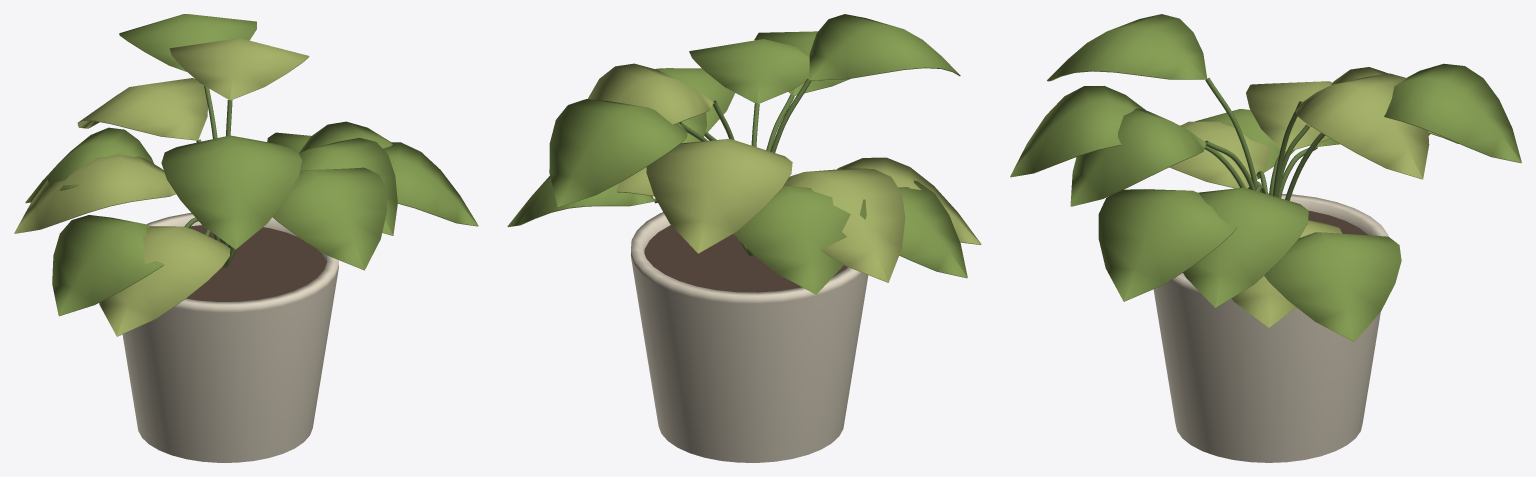
Rendered from prop_potted_plant_reused.glb.
The picture shows the model from 3 angles, left to right: view 1: azimuth 30°, elevation 25°; view 2: azimuth 150°, elevation 25°; view 3: azimuth 270°, elevation 25°; orthographic projection. The views are drawn at different scales.
Parts seen in each view (by area): view 1: leaf, pot, leaf_light, soil, stem; view 2: leaf, pot, leaf_light, soil, stem; view 3: leaf, pot, leaf_light, stem, soil.
Boxes of the visible parts, x1,y1,x2,y2 form: leaf: (25,14,478,316); pot: (122,213,338,462); leaf_light: (14,38,309,336); soil: (186,225,325,301); stem: (184,86,236,267); leaf: (507,14,967,294); pot: (631,212,868,462); leaf_light: (588,63,981,282); soil: (644,225,847,292); stem: (654,79,811,255); leaf: (1010,14,1521,341); pot: (1153,193,1388,462); leaf_light: (1169,67,1458,327); stem: (1204,77,1325,200); soil: (1308,210,1367,234).
Bounding box in the file's own units: 0.4081 × 0.3481 × 0.4417.
